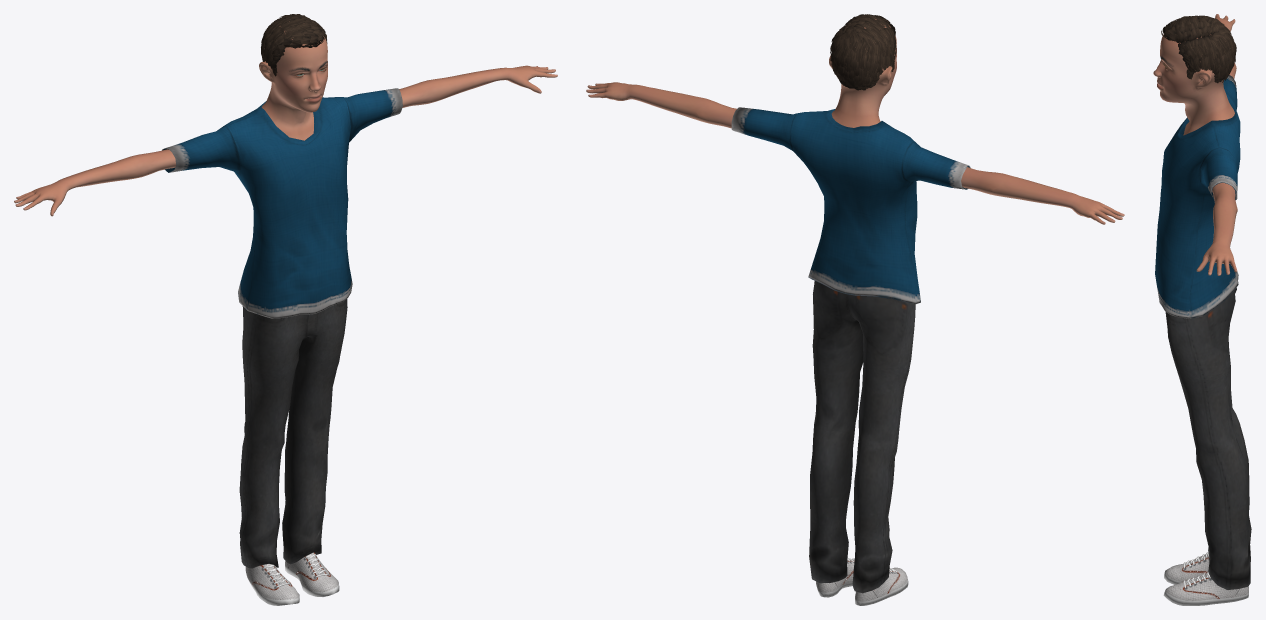
The model's file is teen1.obj.
The picture shows the model from 3 angles, left to right: view 1: azimuth 30°, elevation 25°; view 2: azimuth 150°, elevation 25°; view 3: azimuth 270°, elevation 25°; orthographic projection.
Parts seen in each view (by area): view 1: Tops, Bottoms, Body, Shoes, Hair; view 2: Bottoms, Tops, Body, Hair, Shoes; view 3: Bottoms, Tops, Body, Hair, Shoes.
Part boxes in pixels (box(x1,y1,x2,y2)): Tops: box(162, 88, 402, 318); Bottoms: box(239, 299, 347, 568); Body: box(14, 21, 557, 216); Shoes: box(245, 552, 339, 605); Hair: box(261, 14, 327, 76); Bottoms: box(809, 281, 915, 593); Tops: box(731, 107, 970, 304); Body: box(586, 19, 1124, 224); Hair: box(830, 14, 896, 90); Shoes: box(816, 558, 908, 605); Bottoms: box(1165, 288, 1251, 589); Tops: box(1155, 75, 1240, 318); Body: box(1153, 14, 1237, 275); Hair: box(1161, 15, 1236, 83); Shoes: box(1163, 552, 1248, 605).
Size of the model in its own units: 163 by 165 by 25.69.
1 material, 1 textured.
